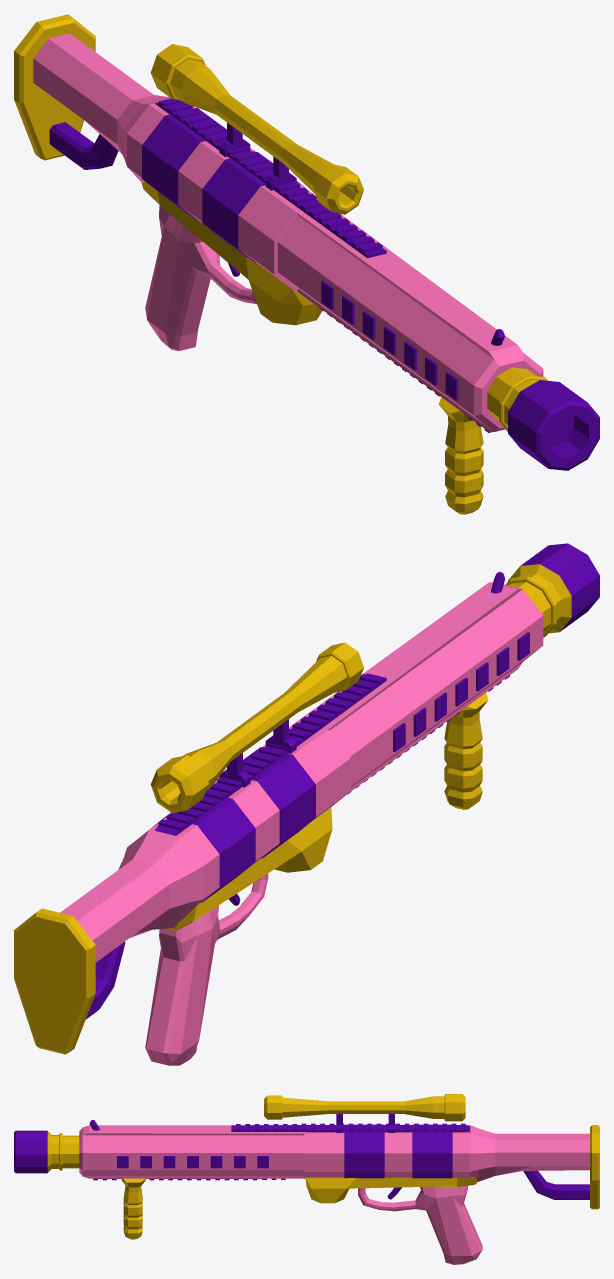
Rendered from bubbleRifle.fbx.
The picture shows the model from 3 angles, top to bottom: view 1: azimuth 30°, elevation 25°; view 2: azimuth 150°, elevation 25°; view 3: azimuth 270°, elevation 25°; orthographic projection. The views are drawn at different scales.
Visible parts, largest first — view 1: bubbleRifle, Cylinder, handel; view 2: bubbleRifle, Cylinder, handel; view 3: bubbleRifle, Cylinder, handel.
Part boxes in pixels (x1,y1,x2,y2): bubbleRifle: (14, 14, 599, 470); Cylinder: (150, 44, 363, 214); handel: (438, 397, 483, 514); bubbleRifle: (14, 543, 599, 1065); Cylinder: (150, 642, 363, 813); handel: (444, 693, 488, 809); bubbleRifle: (14, 1120, 599, 1264); Cylinder: (264, 1094, 465, 1132); handel: (121, 1178, 145, 1239).
Size of the model in its own units: 5.2 by 19.02 by 60.
